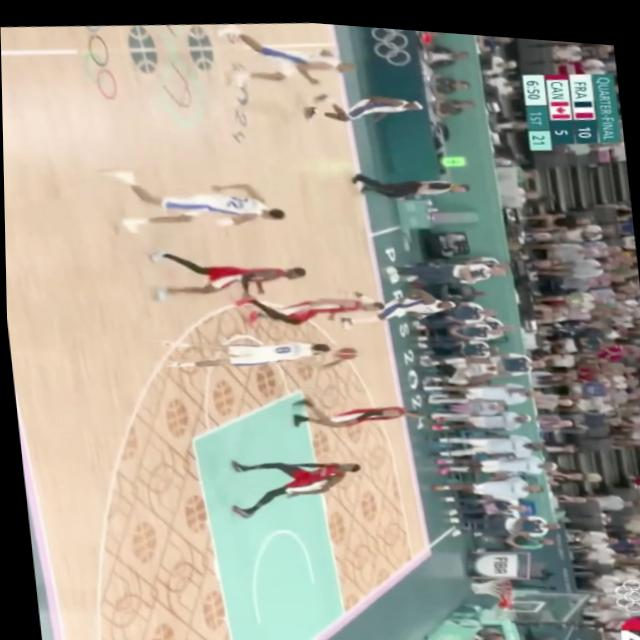ball_handler: (165, 317, 360, 384)
